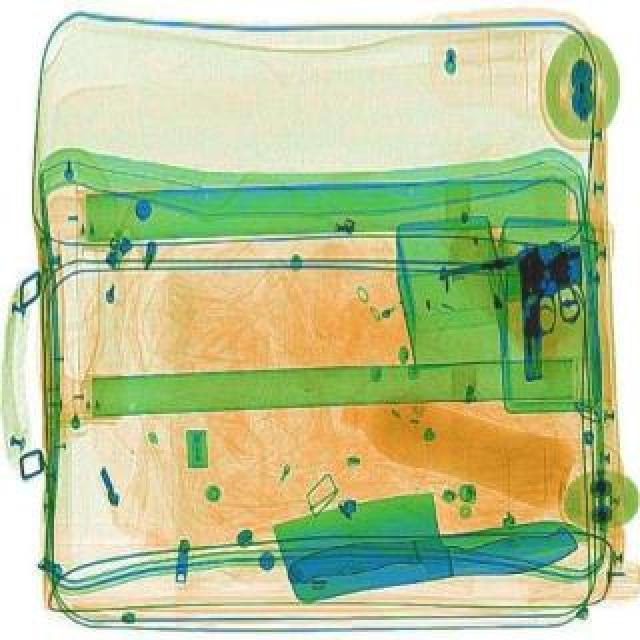gun: (438, 236, 588, 340), (520, 238, 588, 378)
knife: (274, 468, 582, 604), (286, 506, 594, 592)
